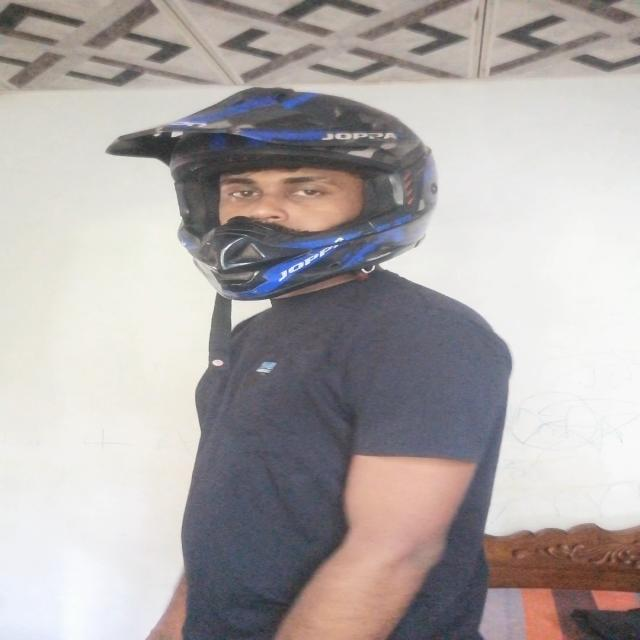Helmet_Wearer: (129, 91, 440, 302)
Person: (107, 85, 517, 640)
